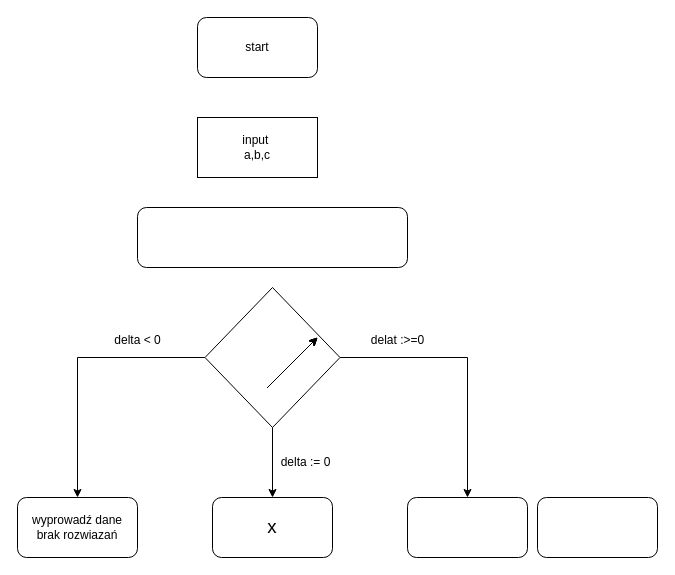
This 675x575 diagram has some shape labels left out. Here are the shapes that lost their labels. From the top down, the centre of each, then its label:
[272,237]: obliczanie delty delta := (b * b) - 4 (a * c)
[272,357]: IF delta
